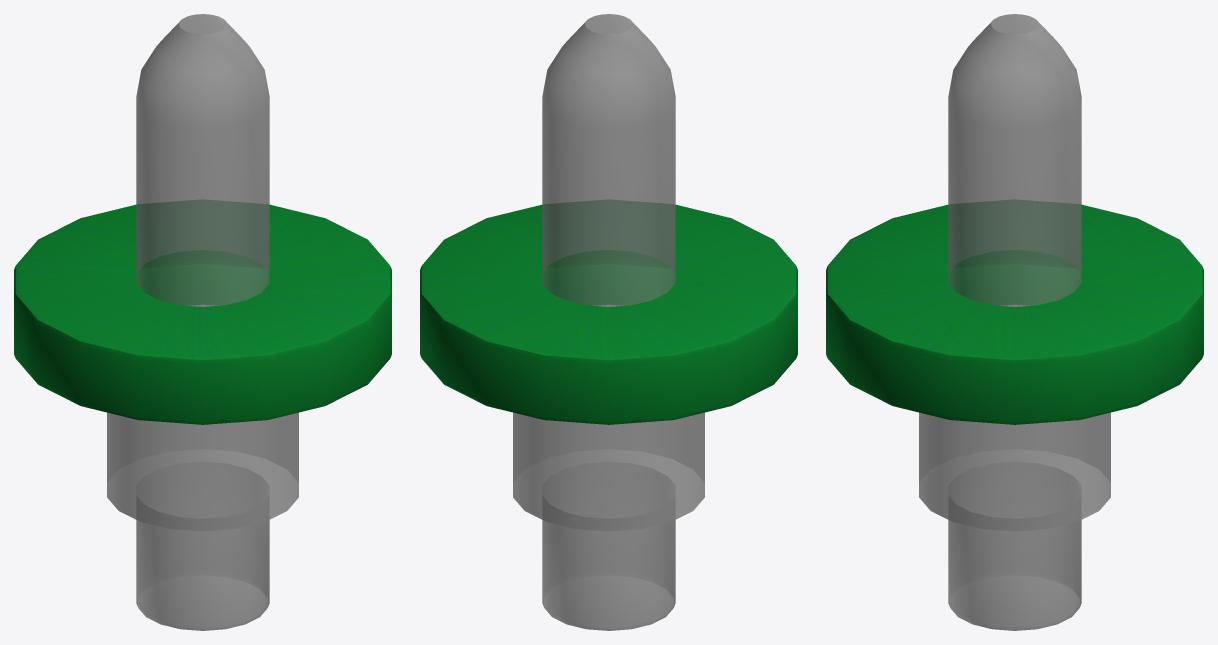
The model's file is SM_有机滤膜.FBX.
3 renders of one model, left to right at view 1: azimuth 30°, elevation 25°; view 2: azimuth 150°, elevation 25°; view 3: azimuth 270°, elevation 25°, orthographic.
Parts seen in each view (by area): view 1: SM_有机滤膜; view 2: SM_有机滤膜; view 3: SM_有机滤膜.
Part boxes in pixels (x1,y1,x2,y2): SM_有机滤膜: [14, 14, 391, 630]; SM_有机滤膜: [420, 14, 797, 630]; SM_有机滤膜: [826, 14, 1203, 630].
Bounding box in the file's own units: 10.57 × 17.64 × 10.41.
